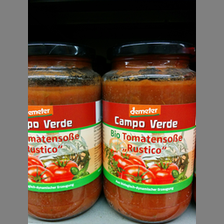tomato_sauce: (103, 39, 196, 224), (29, 41, 103, 224)
